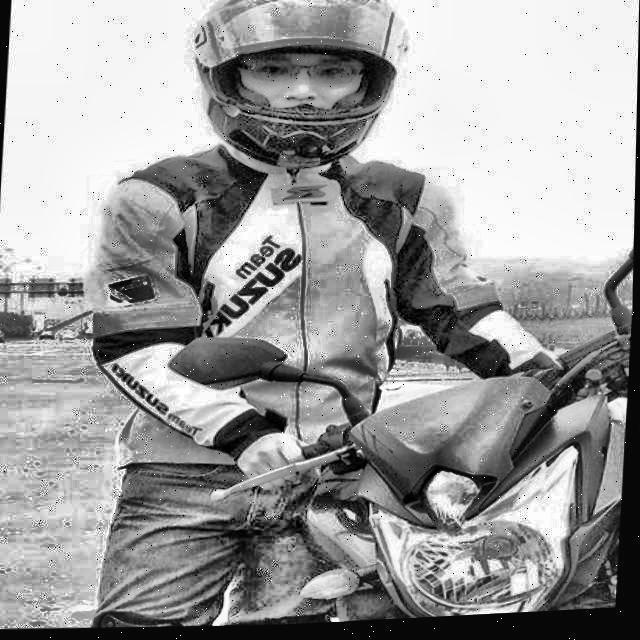Helmet: (178, 0, 429, 188)
